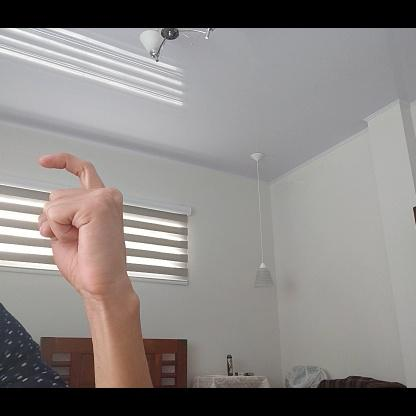X: (36, 150, 134, 312)
